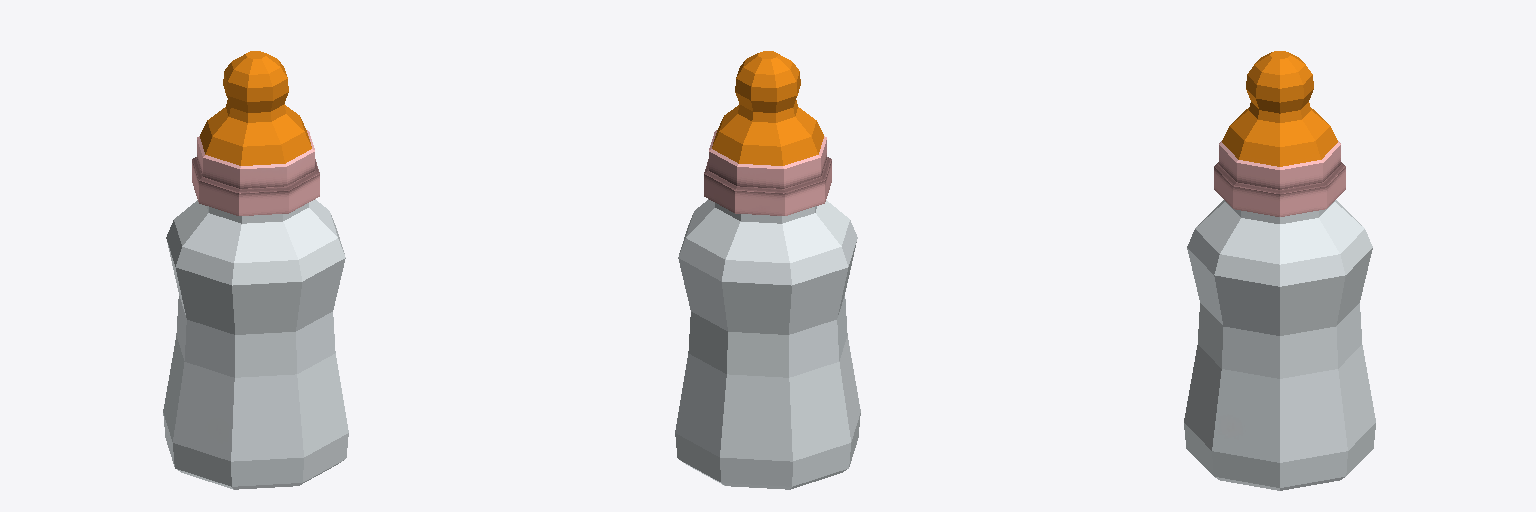
3 renders of one model, left to right at view 1: azimuth 30°, elevation 25°; view 2: azimuth 150°, elevation 25°; view 3: azimuth 270°, elevation 25°, orthographic.
Parts seen in each view (by area): view 1: Baby_Bottle; view 2: Baby_Bottle; view 3: Baby_Bottle.
Part boxes in pixels (bbox=[...]): Baby_Bottle: bbox=[163, 51, 348, 489]; Baby_Bottle: bbox=[675, 51, 860, 489]; Baby_Bottle: bbox=[1184, 51, 1375, 490].
Bounding box in the file's own units: 54.38 × 125 × 54.38.
1 materials, 1 textured.